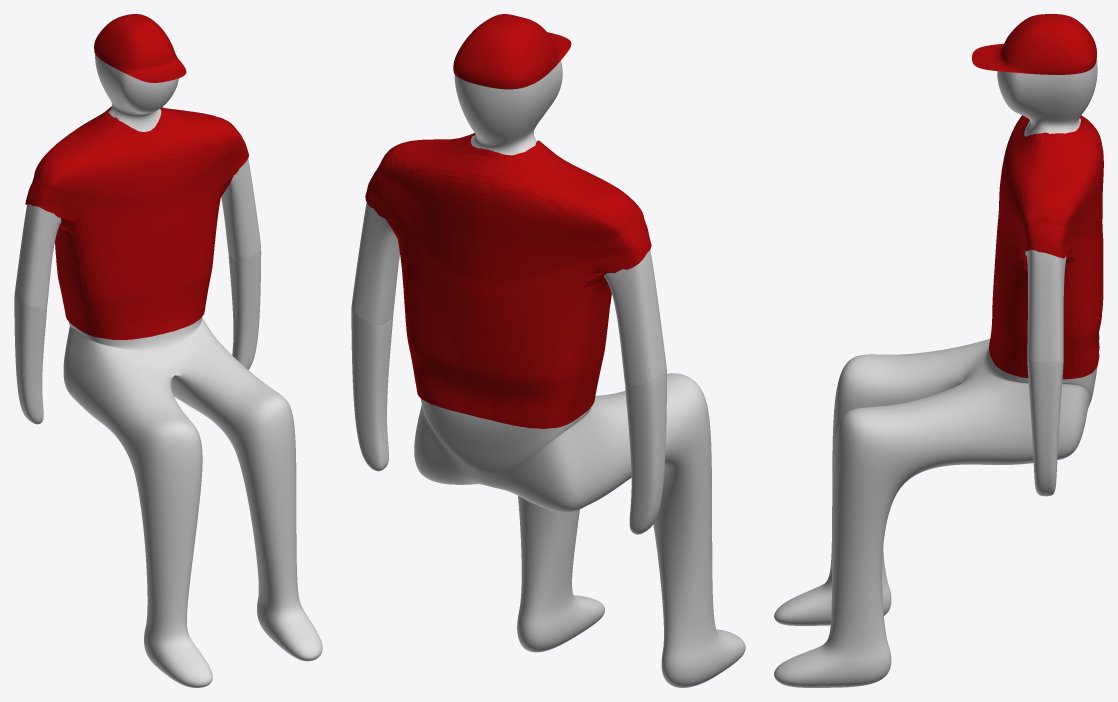
The model's file is Player1WithShirtAndHat.glb.
3 views of the same model, side by side, from view 1: azimuth 30°, elevation 25°; view 2: azimuth 150°, elevation 25°; view 3: azimuth 270°, elevation 25° (orthographic). The views are drawn at different scales.
Visible parts, largest first — view 1: Charcter, Shirt, Hat; view 2: Charcter, Shirt, Hat; view 3: Charcter, Shirt, Hat.
Part boxes in pixels (bbox=[...]): Charcter: bbox=[14, 54, 322, 687]; Shirt: bbox=[25, 106, 248, 339]; Hat: bbox=[94, 14, 186, 82]; Charcter: bbox=[351, 61, 745, 687]; Shirt: bbox=[365, 133, 651, 428]; Hat: bbox=[453, 14, 571, 89]; Charcter: bbox=[774, 59, 1097, 687]; Shirt: bbox=[989, 115, 1103, 379]; Hat: bbox=[972, 14, 1096, 74].
Bounding box in the file's own units: 2.09 × 4.73 × 2.23.
